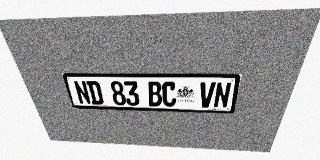3: (123, 81, 140, 106)
8: (109, 81, 127, 105)
B: (147, 81, 162, 106)
C: (162, 81, 176, 107)
D: (86, 81, 104, 105)
N: (213, 82, 232, 108), (73, 81, 92, 104)
V: (198, 82, 216, 108)
